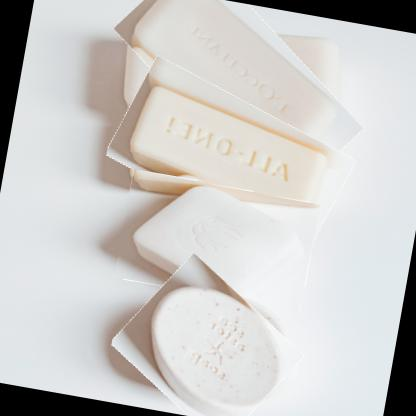soap: (97, 0, 377, 187), (100, 66, 358, 248), (110, 257, 307, 415), (112, 170, 319, 312)
